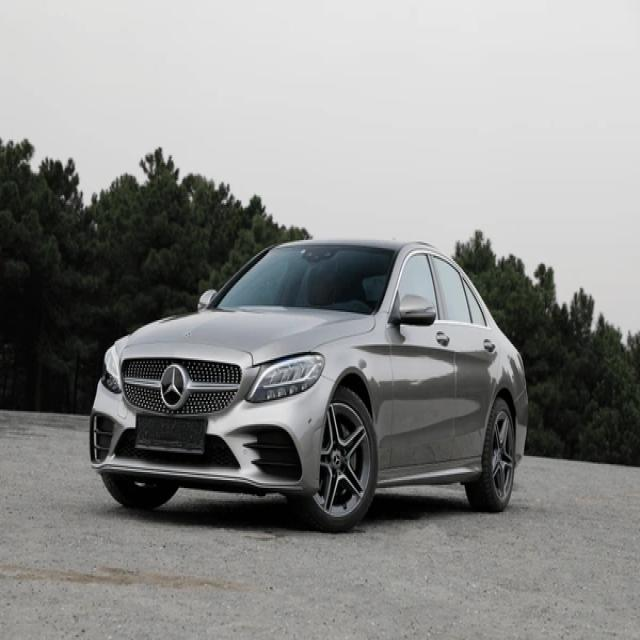mercedes: (159, 362, 191, 410)
